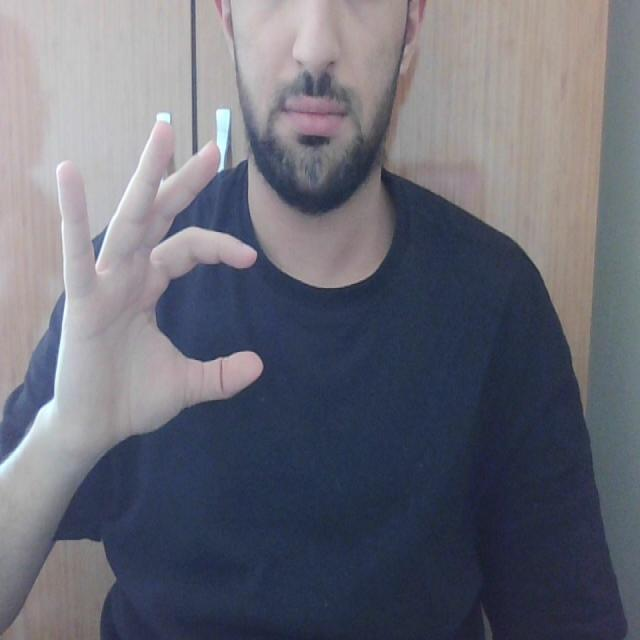Tuvalet: (30, 110, 272, 447)
